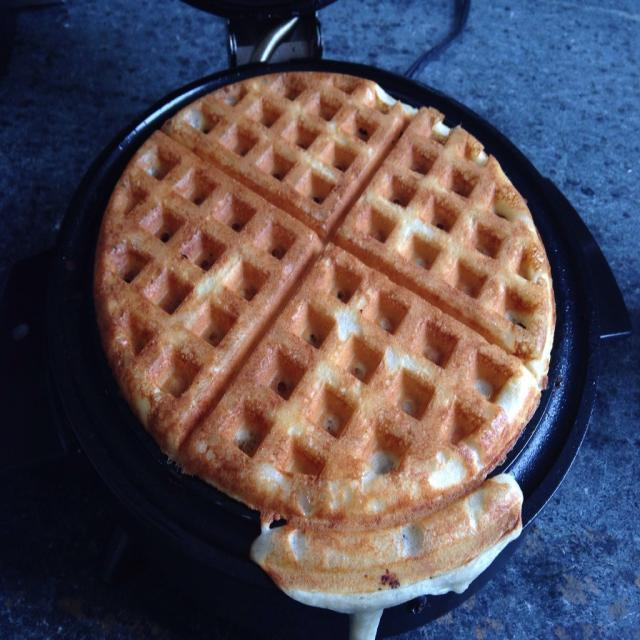Waffle: (93, 72, 555, 612)
